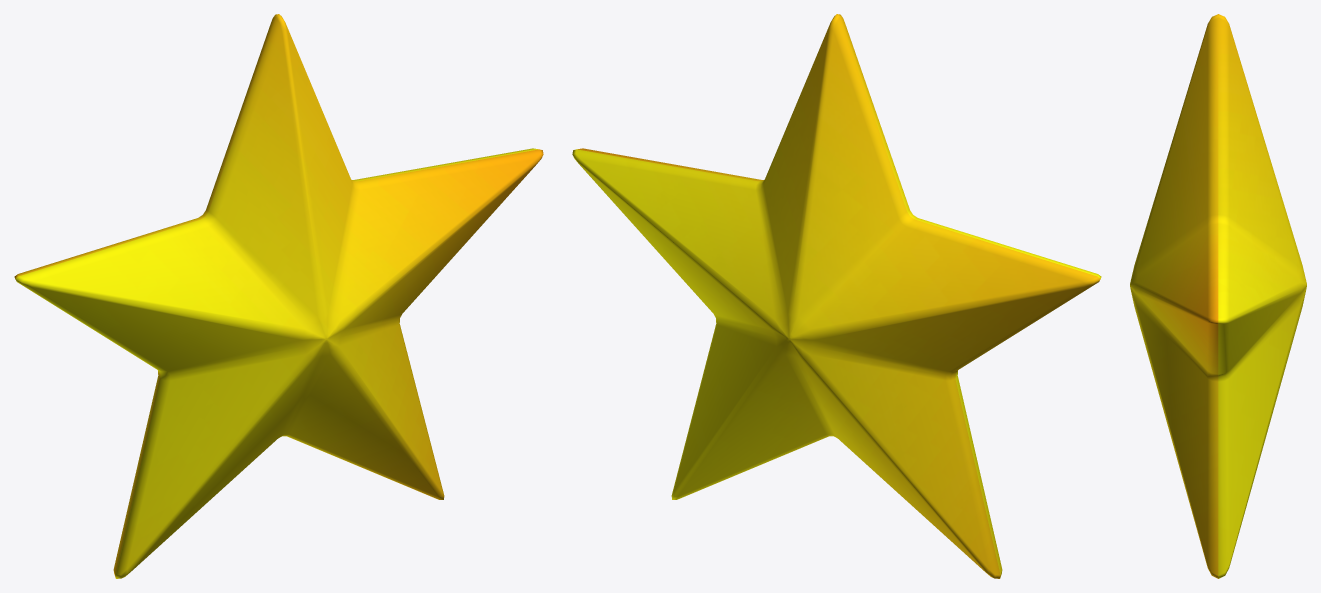
The model's file is Star.fbx.
The picture shows the model from 3 angles, left to right: view 1: azimuth 30°, elevation 25°; view 2: azimuth 150°, elevation 25°; view 3: azimuth 270°, elevation 25°; orthographic projection. The views are drawn at different scales.
Parts seen in each view (by area): view 1: Gold_star; view 2: Gold_star; view 3: Gold_star.
Boxes of the visible parts, x1,y1,x2,y2 form: Gold_star: (14, 14, 543, 578); Gold_star: (572, 14, 1101, 578); Gold_star: (1130, 14, 1306, 578).
Size of the model in its own units: 2.06 by 1.96 by 0.6389.
Materials: 1 (1 with a texture image).
